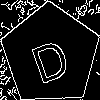D: (25, 29, 73, 85)
